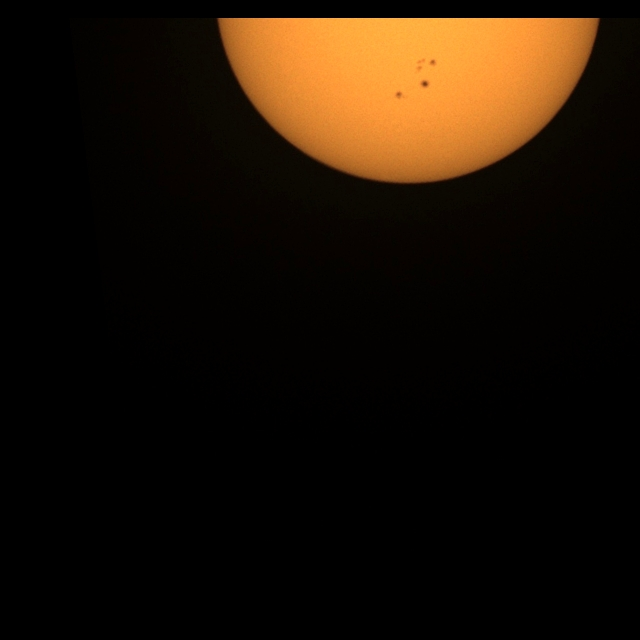sunspot: (415, 57, 435, 74), (394, 90, 406, 101), (419, 79, 430, 90), (428, 59, 436, 67)
